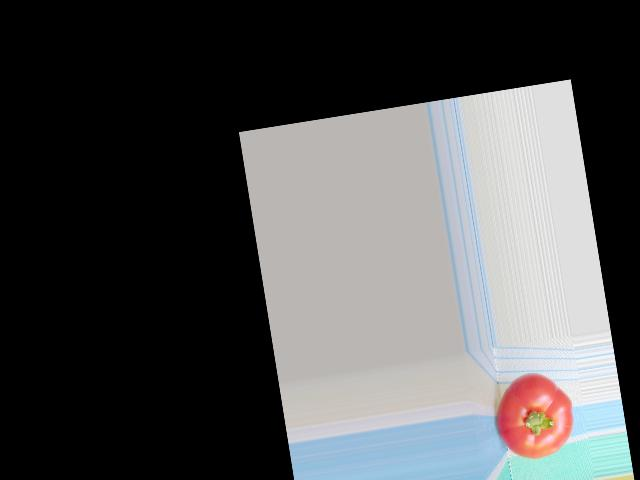tomato: (489, 368, 579, 464)
